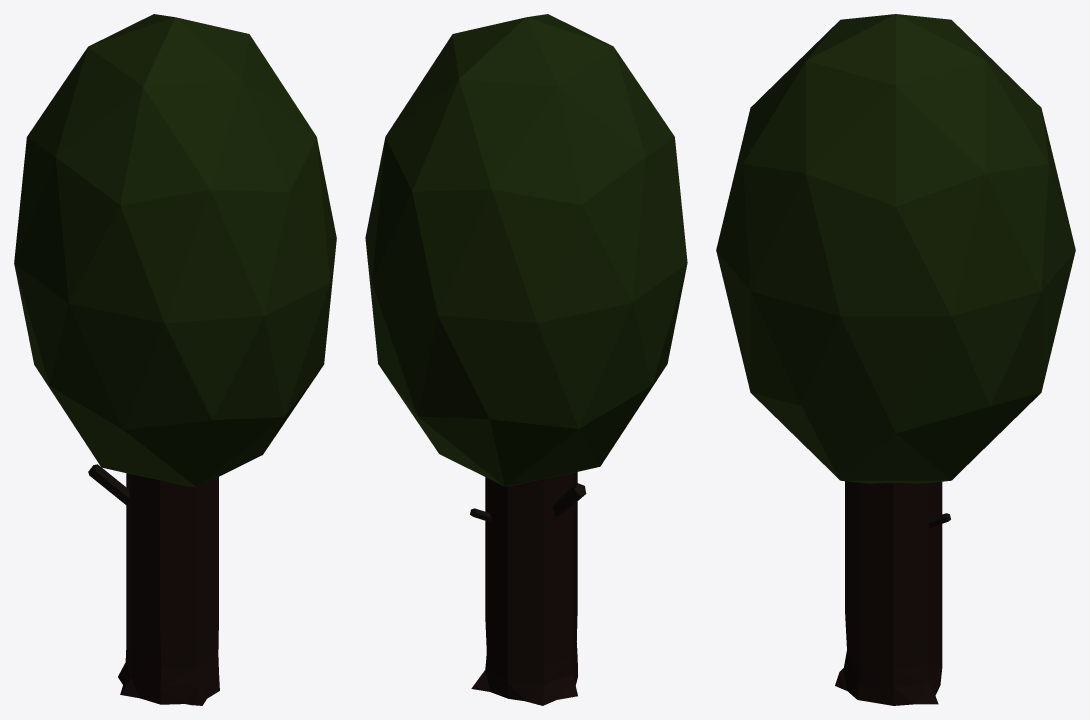
File: birch_tree.obj
3 renders of one model, left to right at view 1: azimuth 30°, elevation 25°; view 2: azimuth 150°, elevation 25°; view 3: azimuth 270°, elevation 25°, orthographic.
Visible parts, largest first — view 1: crown_Icosphere, trunk_Cylinder, branch1_Cylinder.001; view 2: crown_Icosphere, trunk_Cylinder, branch1_Cylinder.001; view 3: crown_Icosphere, trunk_Cylinder.
Boxes of the visible parts, box(x1,y1,x2,y2) form: crown_Icosphere: box(14, 14, 336, 487); trunk_Cylinder: box(118, 473, 219, 705); branch1_Cylinder.001: box(88, 464, 129, 507); crown_Icosphere: box(365, 14, 687, 486); trunk_Cylinder: box(471, 472, 577, 705); branch1_Cylinder.001: box(553, 483, 586, 516); crown_Icosphere: box(716, 14, 1075, 483); trunk_Cylinder: box(835, 481, 942, 705).
Bounding box in the file's own units: 3 × 7.13 × 3.45.
